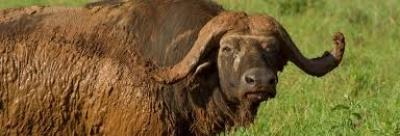buffalo: (0, 0, 345, 135)
